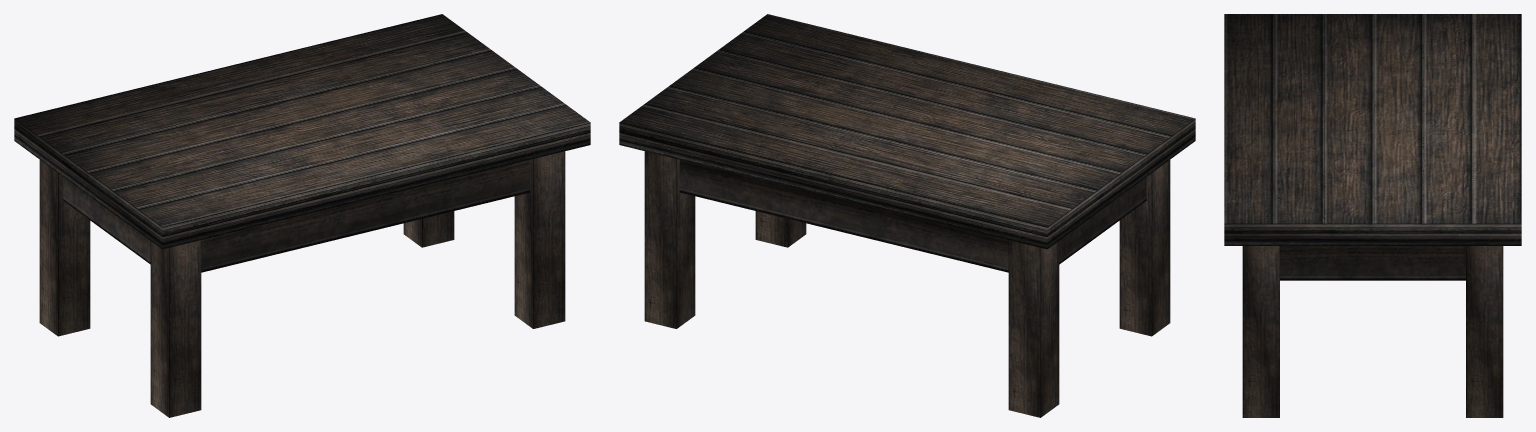
File: GS_CITY_TABLE_NORMAL_BLACK_01_KOZA.glb
The picture shows the model from 3 angles, left to right: view 1: azimuth 30°, elevation 25°; view 2: azimuth 150°, elevation 25°; view 3: azimuth 270°, elevation 25°; orthographic projection.
Parts seen in each view (by area): view 1: Mesh; view 2: Mesh; view 3: Mesh.
Boxes of the visible parts, x1=… form: Mesh: x1=14, y1=14, x2=590, y2=417; Mesh: x1=619, y1=14, x2=1195, y2=417; Mesh: x1=1224, y1=14, x2=1521, y2=417.
Bounding box in the file's own units: 2 × 0.9 × 1.2.
2 materials, 2 textured.
